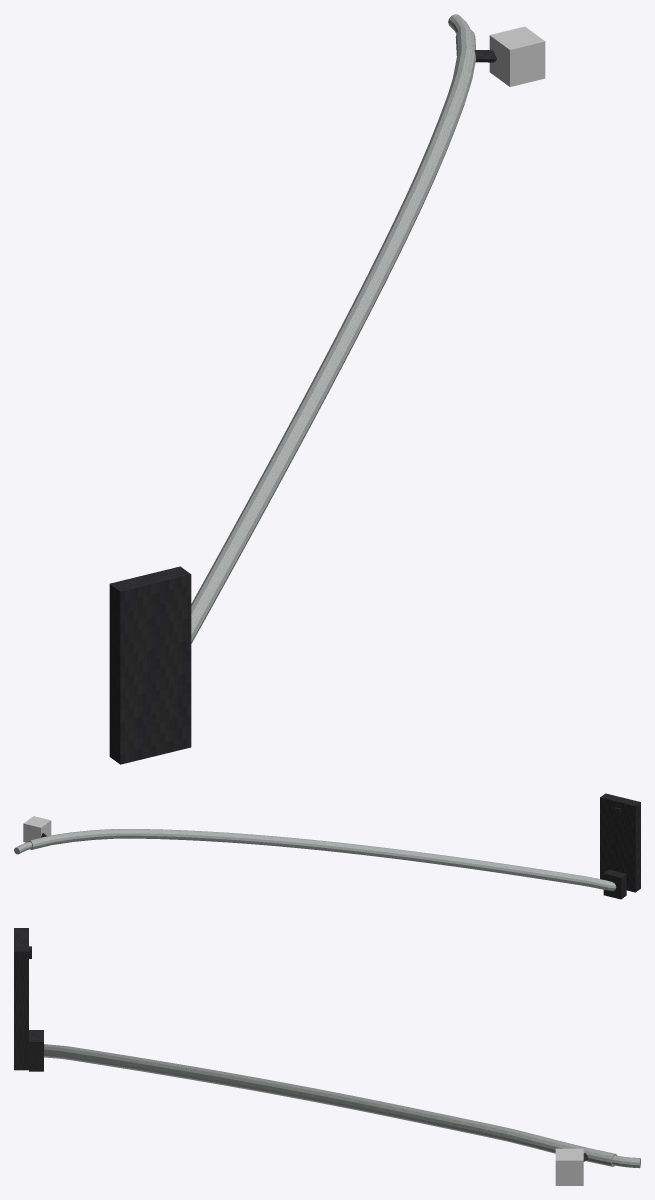
Rendered from arm_5_right_right.obj.
3 renders of one model, top to bottom at view 1: azimuth 30°, elevation 25°; view 2: azimuth 150°, elevation 25°; view 3: azimuth 270°, elevation 25°, orthographic. The views are drawn at different scales.
Visible parts, largest first — view 1: pole_light_mount_5_right_right; view 2: pole_light_mount_5_right_right; view 3: pole_light_mount_5_right_right.
Boxes of the visible parts, x1,y1,x2,y2 form: pole_light_mount_5_right_right: (109,14,545,764); pole_light_mount_5_right_right: (14,793,640,899); pole_light_mount_5_right_right: (14,928,640,1185).
Size of the model in its own units: 4.34 by 1.24 by 4.19.
